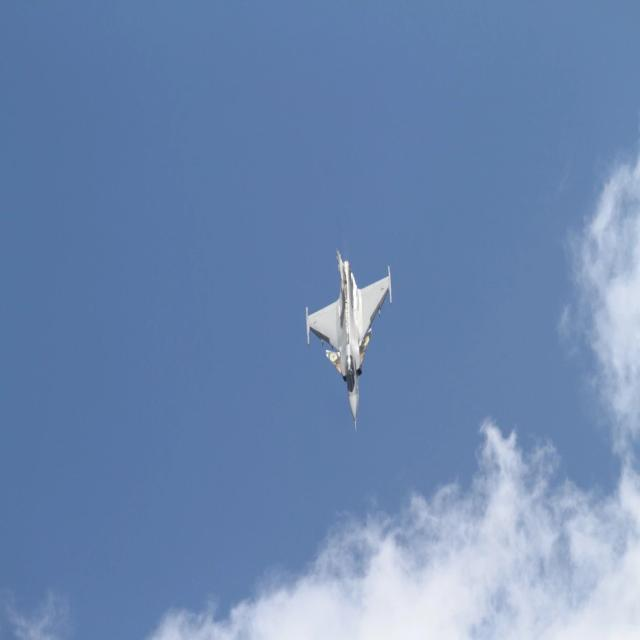MIL_Plane: (306, 247, 393, 432)
